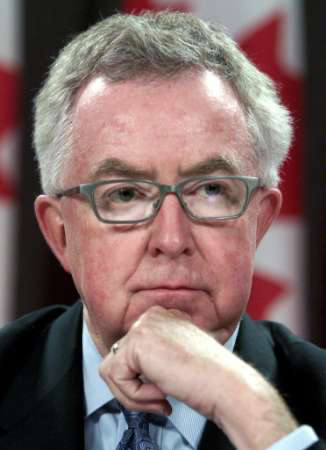Face: (74, 110, 259, 344)
